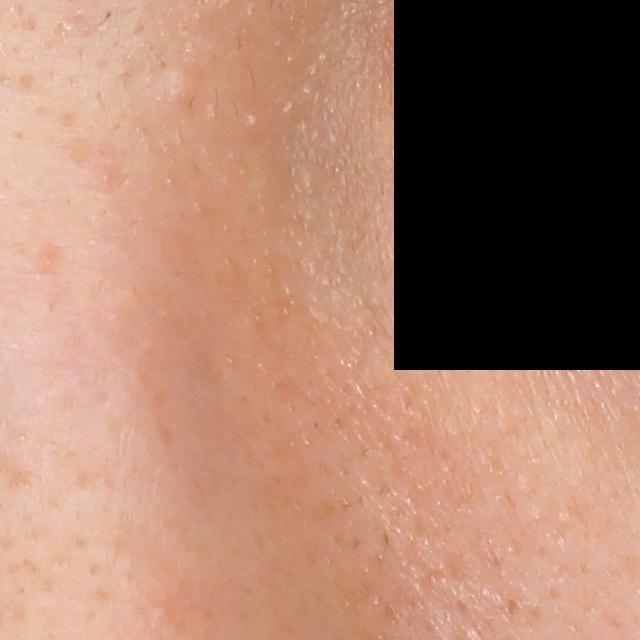comedo: (157, 62, 202, 115)
